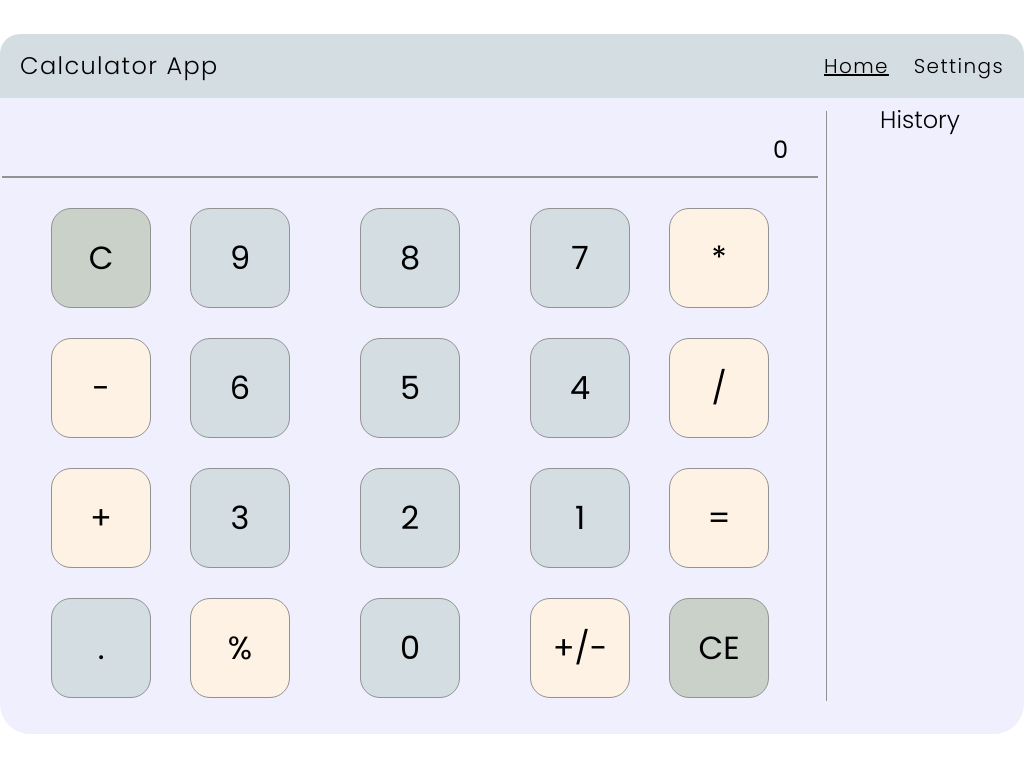
it: Calculator app › should concat values
Click the button "9". click: point(240, 258)
box: left=190, top=208, right=290, bottom=308
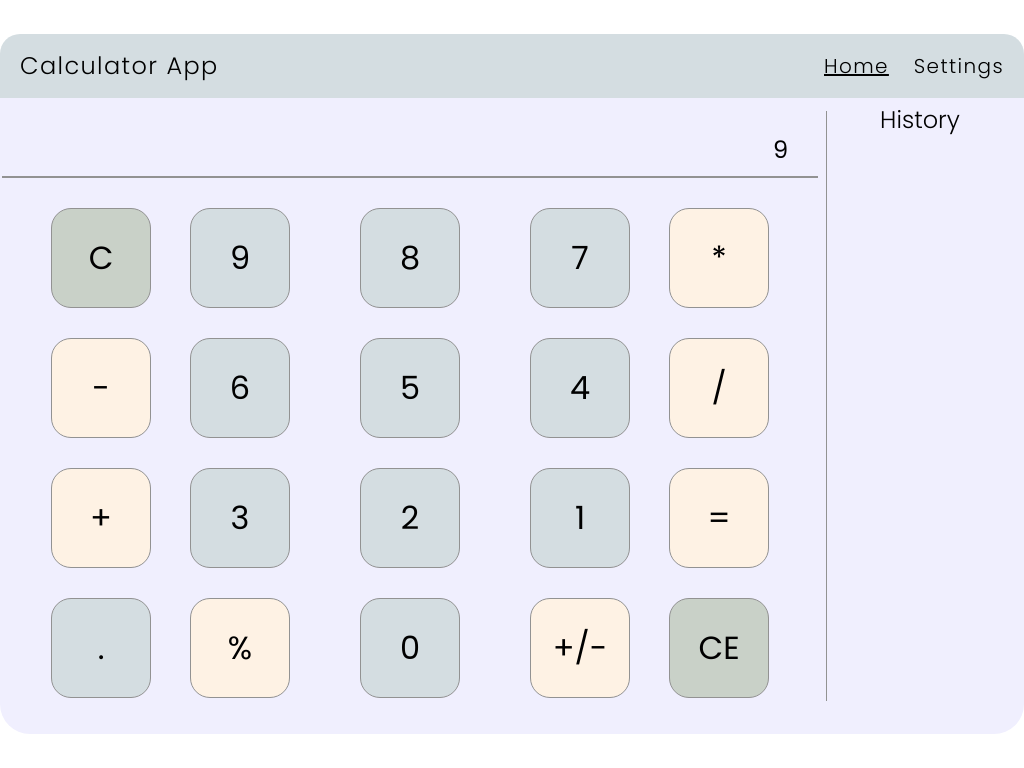
Click the button "2". click: point(410, 518)
box: left=360, top=468, right=460, bottom=568
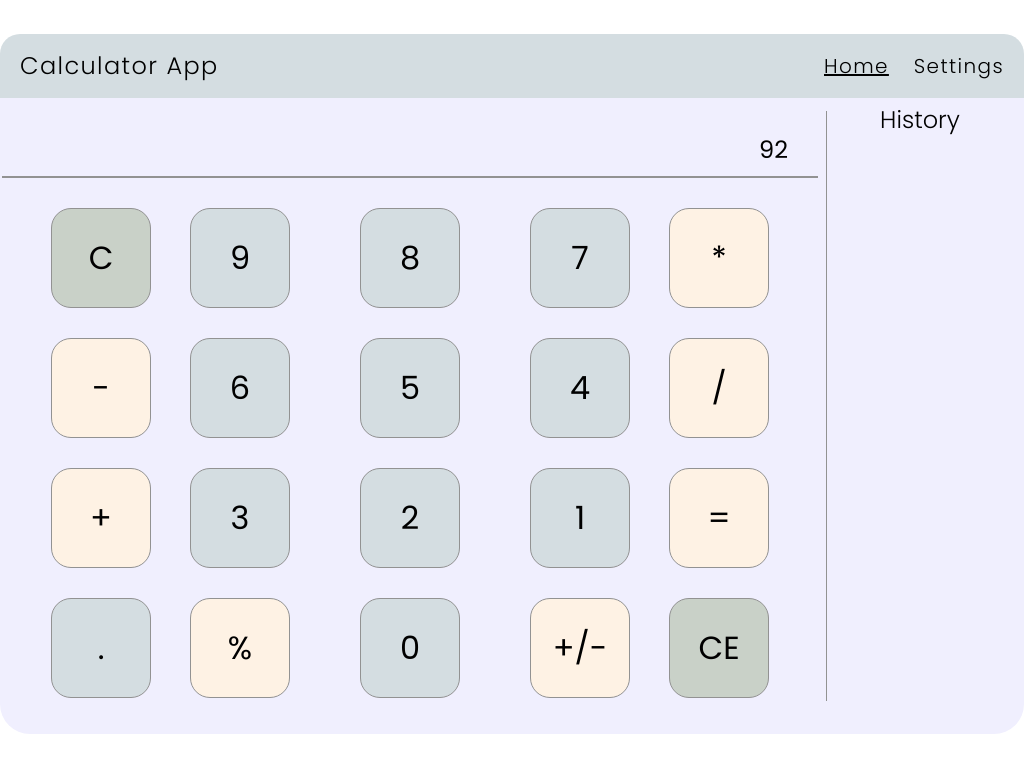
Click the button "8". click: point(410, 258)
box: left=360, top=208, right=460, bottom=308
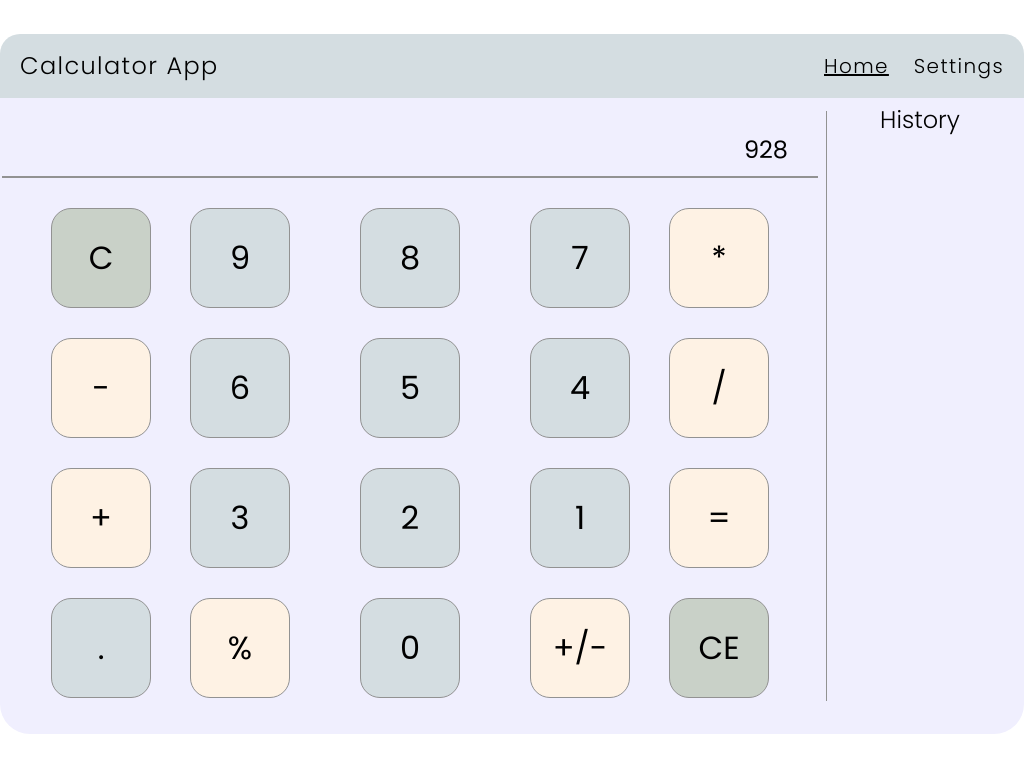
Click the button "5". click: point(410, 388)
box: left=360, top=338, right=460, bottom=438
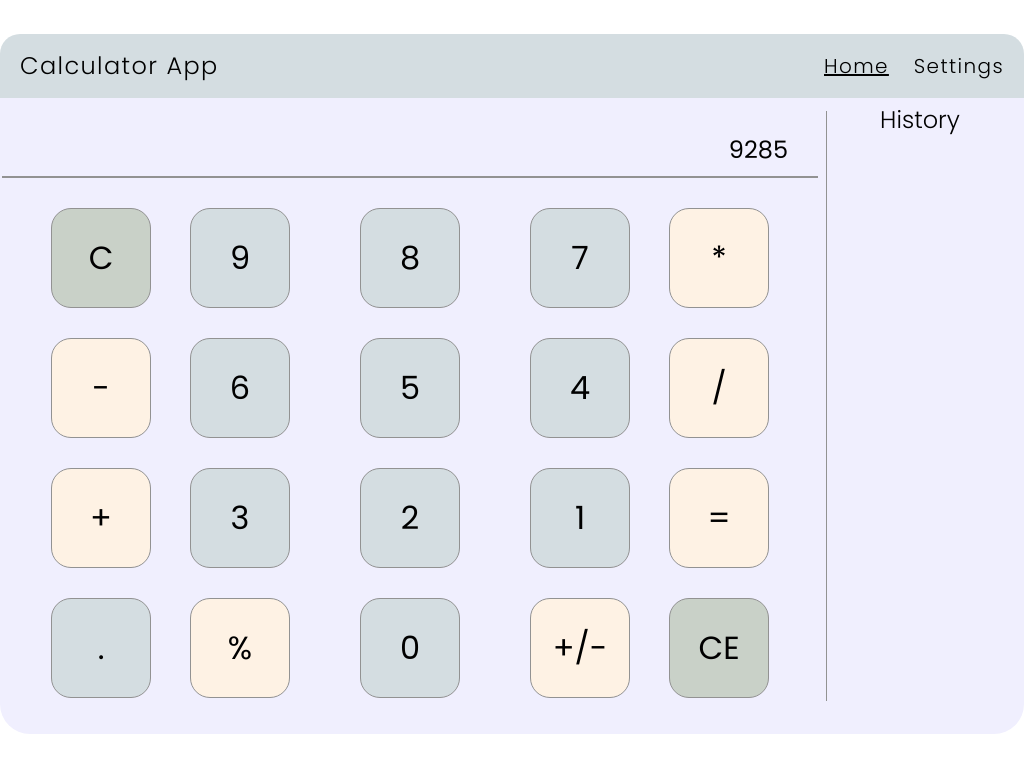
Click the button "1". click: point(580, 518)
box: left=530, top=468, right=630, bottom=568
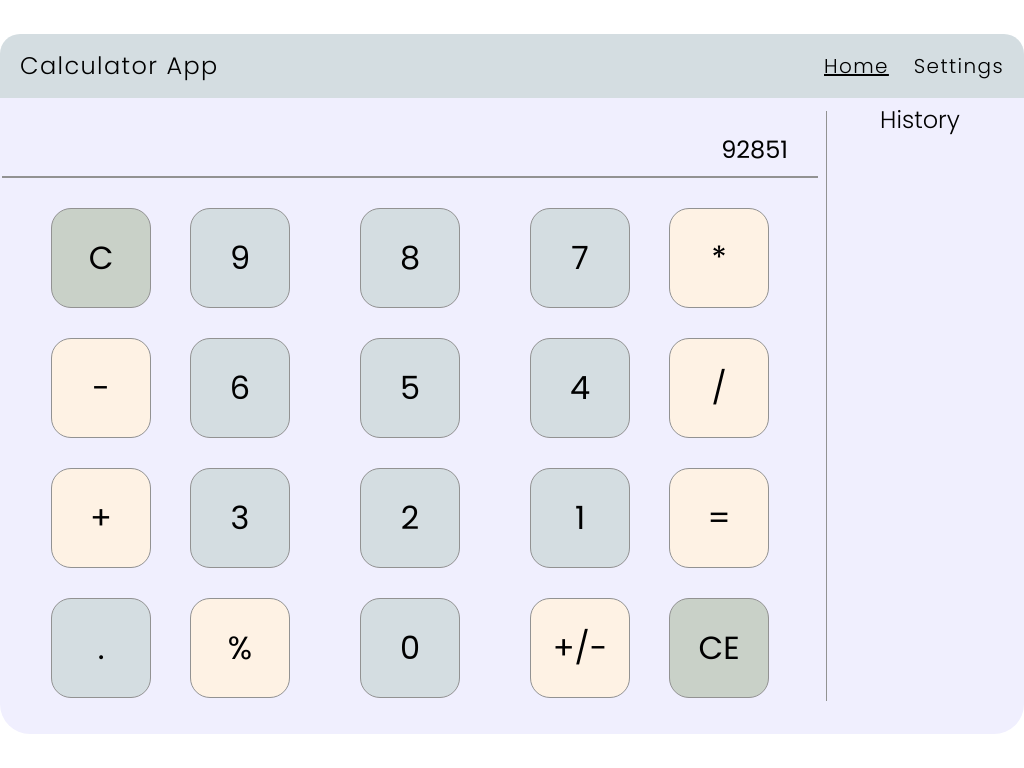
Expected: the text with id "display" reads "92851", left=2, top=98, right=818, bottom=178
